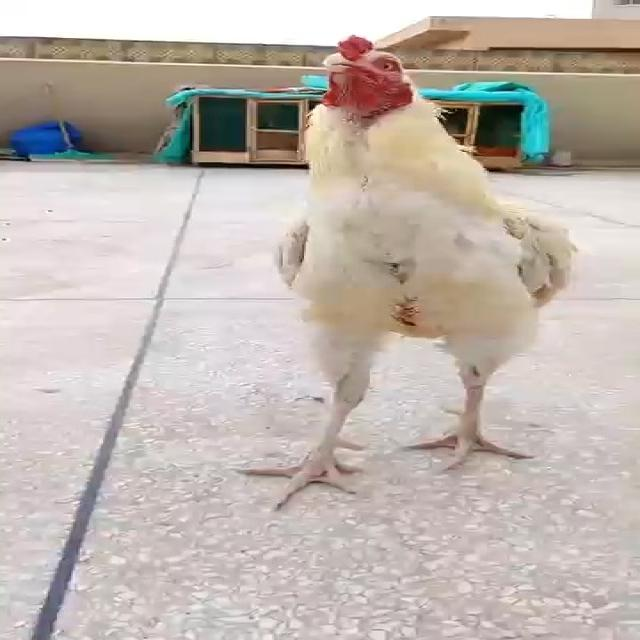walking: (242, 30, 601, 512)
